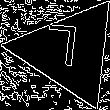L_S: (49, 25, 89, 79)
